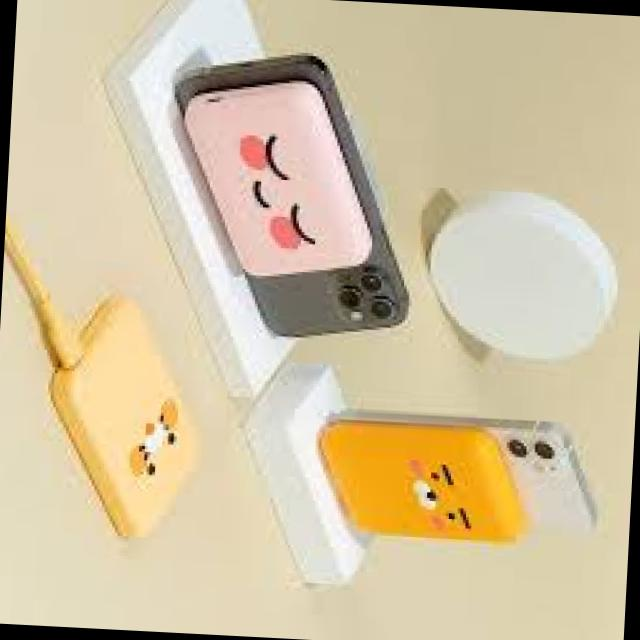power_bank: (170, 75, 377, 293), (41, 296, 206, 554), (311, 418, 527, 544)
